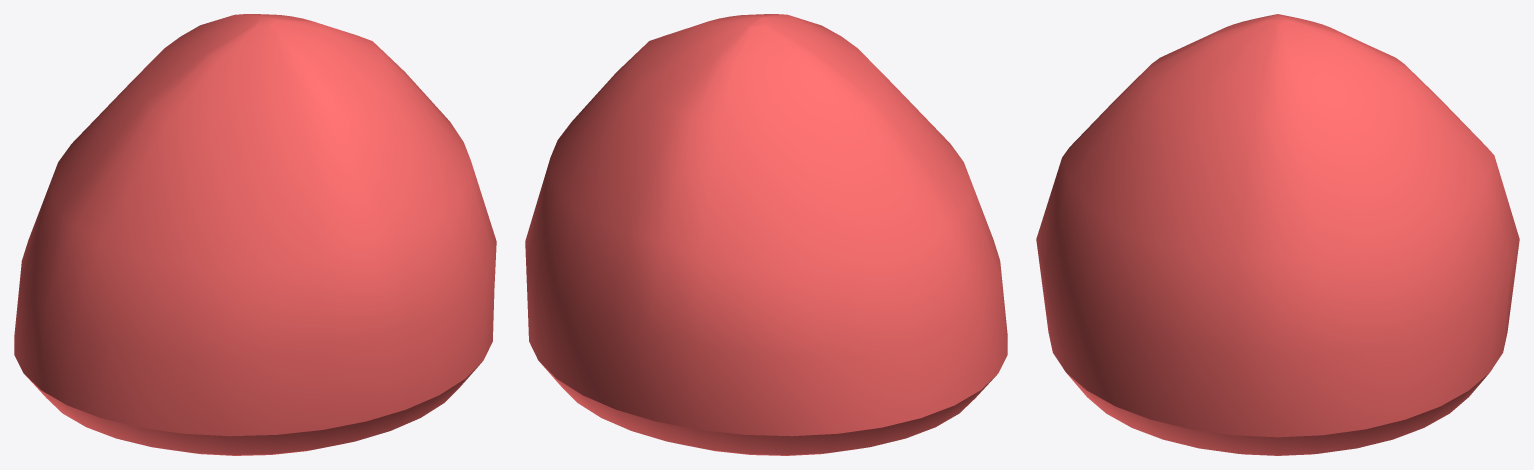
Rendered from slimes.obj.
3 renders of one model, left to right at view 1: azimuth 30°, elevation 25°; view 2: azimuth 150°, elevation 25°; view 3: azimuth 270°, elevation 25°, orthographic.
Visible parts, largest first — view 1: slime_Sphere; view 2: slime_Sphere; view 3: slime_Sphere.
Part boxes in pixels (x1,y1,x2,y2): slime_Sphere: [14, 14, 496, 455]; slime_Sphere: [525, 14, 1007, 455]; slime_Sphere: [1036, 14, 1519, 455].
Size of the model in its own units: 1.88 by 1.52 by 1.8.
